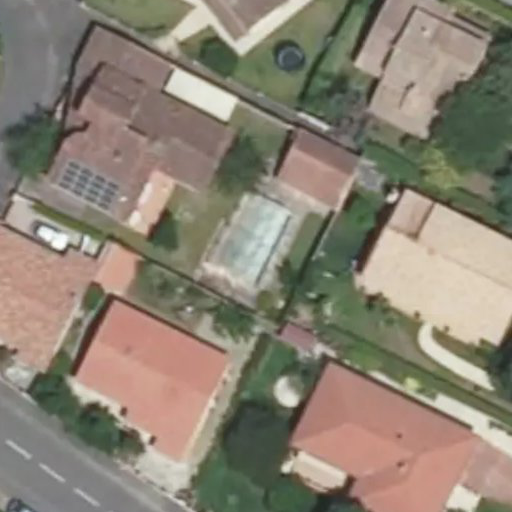pool: (203, 192, 295, 292)
